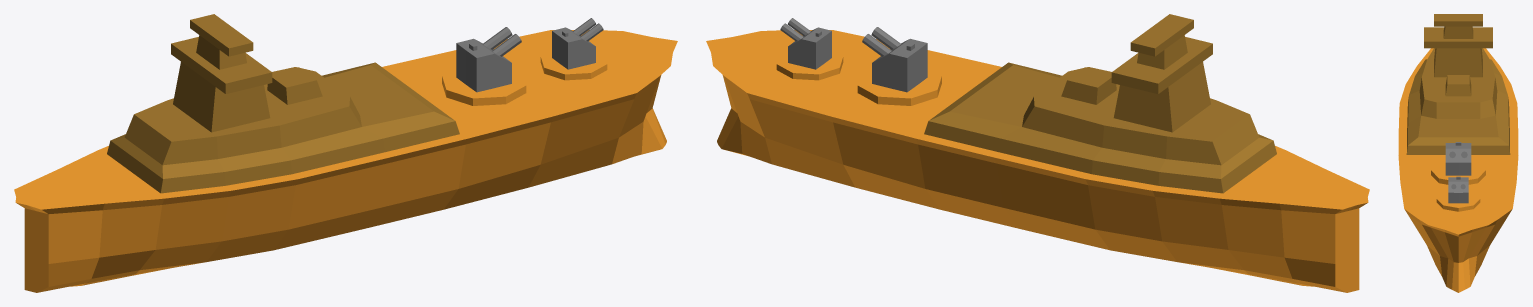
File: Ship_Yamato_Cannon.obj
3 renders of one model, left to right at view 1: azimuth 30°, elevation 25°; view 2: azimuth 150°, elevation 25°; view 3: azimuth 270°, elevation 25°, orthographic. The views are drawn at different scales.
Parts seen in each view (by area): view 1: Yamato; view 2: Yamato; view 3: Yamato.
Part boxes in pixels (x1,y1,x2,y2): Yamato: (14, 14, 677, 292); Yamato: (706, 14, 1369, 292); Yamato: (1398, 14, 1518, 292).
Bounding box in the file's own units: 5.65 × 1.82 × 1.41.
Materials: 1 (1 with a texture image).
